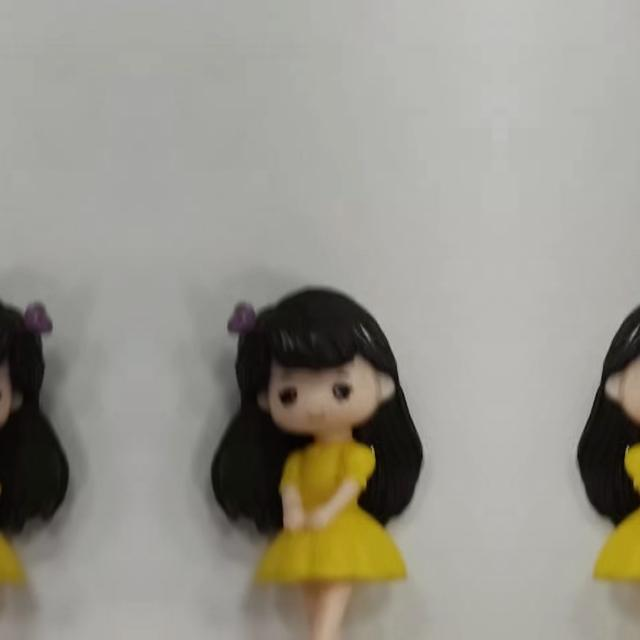woman dress: (258, 420, 440, 640), (560, 420, 640, 640), (0, 420, 22, 640)
woman head: (212, 280, 408, 448), (0, 280, 68, 448), (591, 280, 640, 448)
